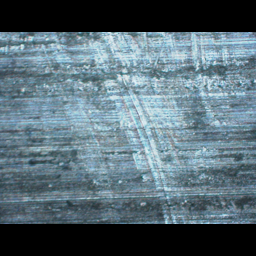d: (71, 32, 255, 188)
